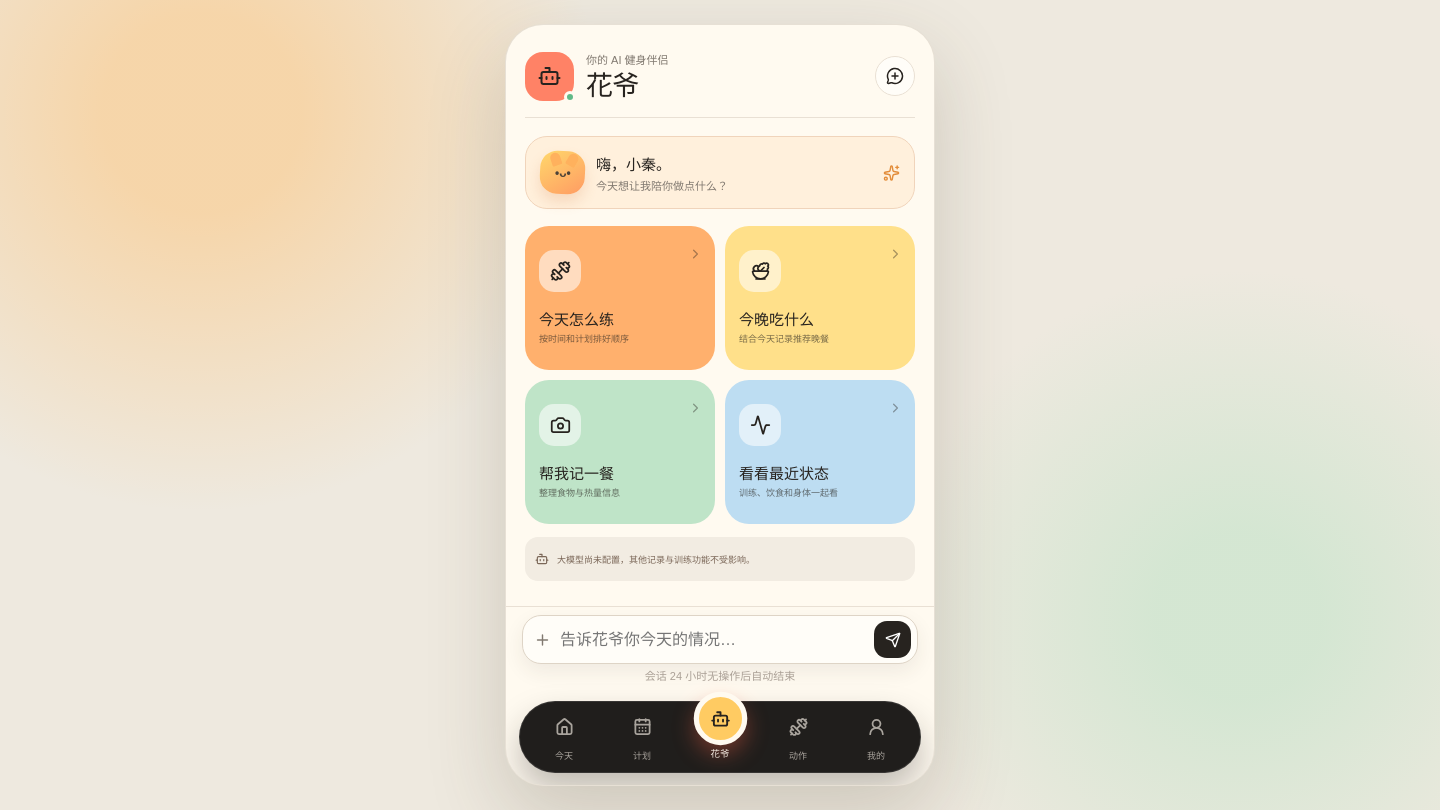
Test: App › dismisses the composer after submitting from the mobile keyboard
Click the field named "问花爷" at [712, 640], box [558,623,867,657]
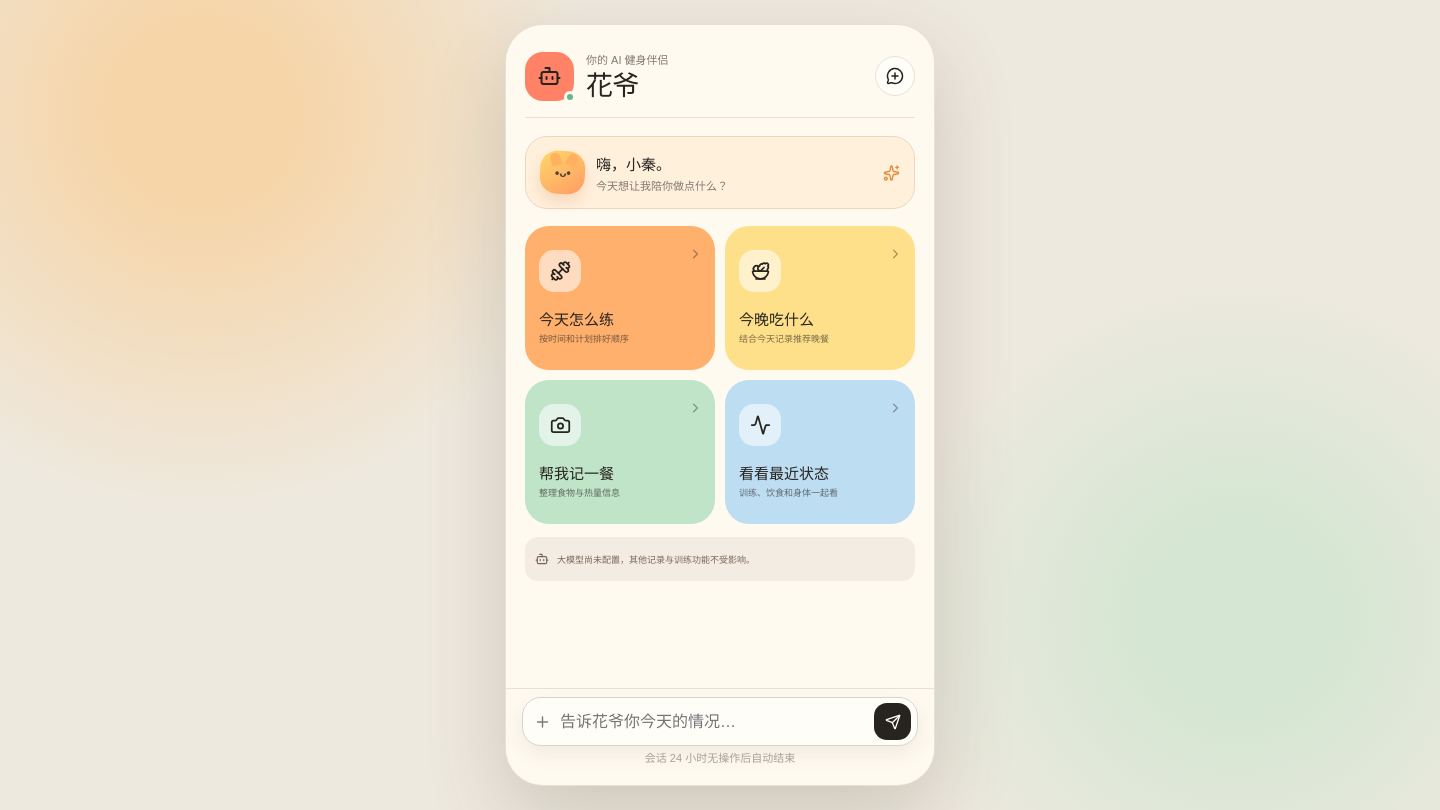
Type "今天练什么" into the field named "问花爷" at [712, 722], box [558,705,867,739]
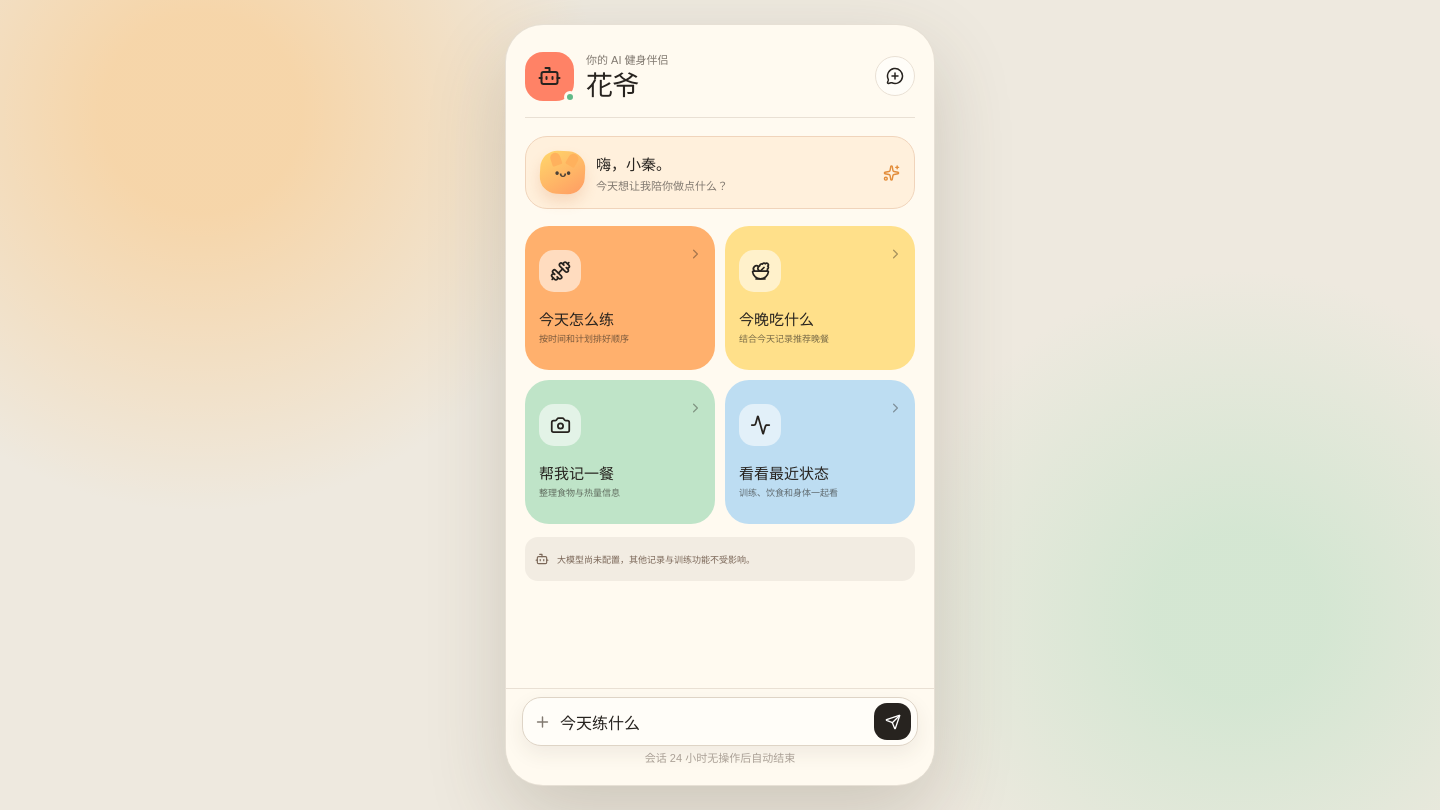
Press Enter
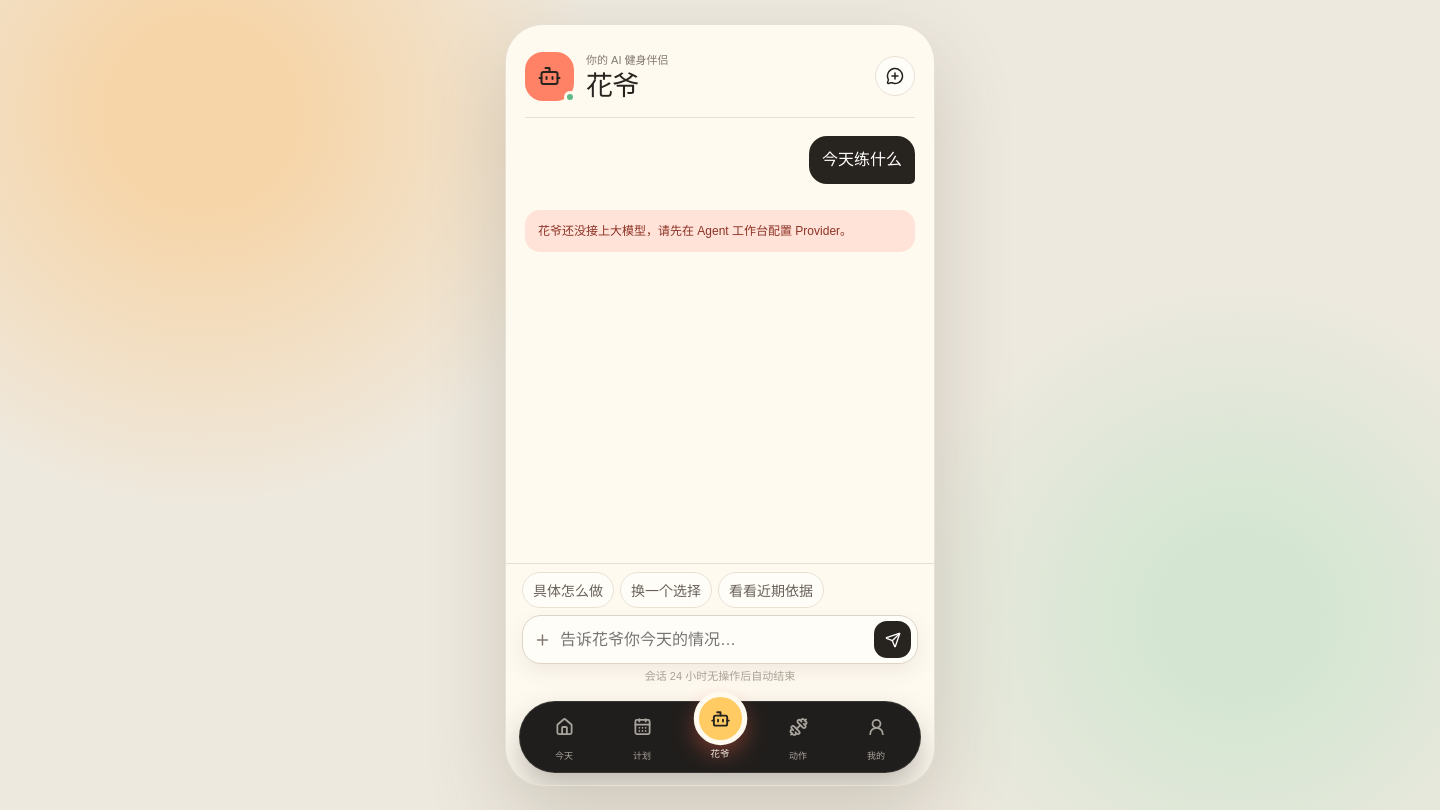
Expected: the navigation bar named "主导航" is shown, [519,701,921,773]
